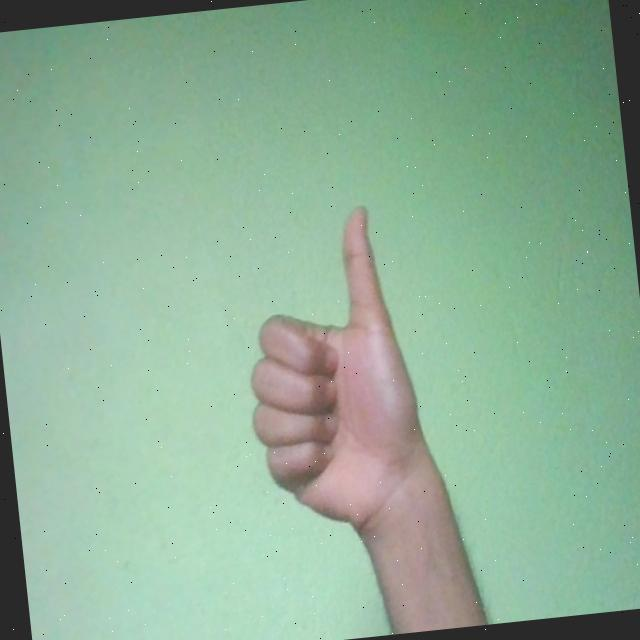Good Job: (229, 200, 432, 544)
